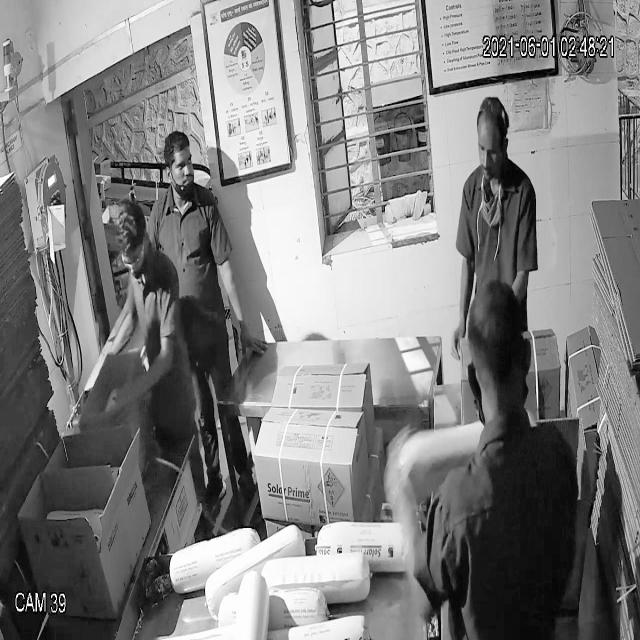glasses: (114, 244, 152, 278)
no-glass: (160, 151, 200, 181), (474, 137, 508, 168)
